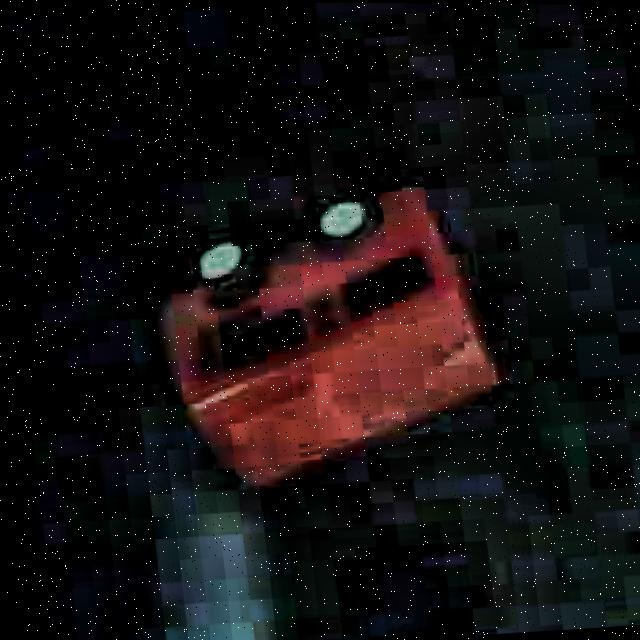bus: (141, 156, 523, 500)
